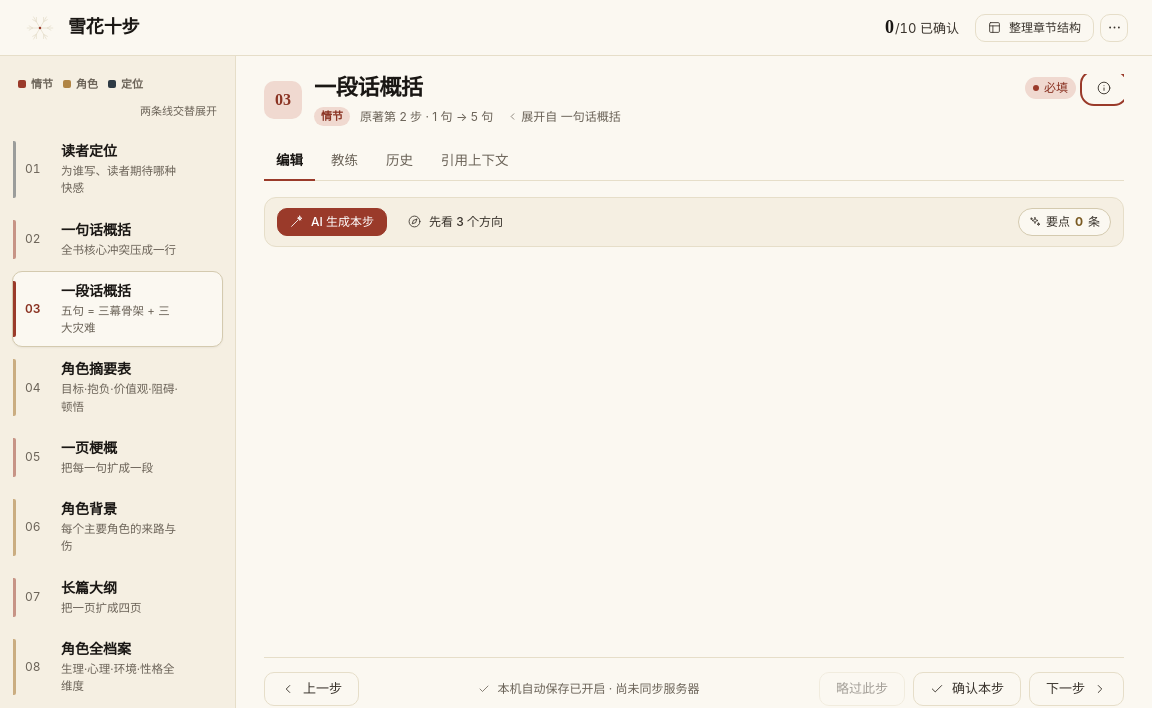
Test case: 真实新项目的雪花顶部主操作 › 窄屏的「本步上下文」抽屉：焦点移进抽屉；Esc / × 关上后焦点回到 ⓘ 按钮（不留在隐藏的抽屉里、不掉到 body）；抽屉开着时 ←/→ 不翻步
Click the button with class "sf-ctx-open".
click(1104, 88)  # box [1084,74,1124,102]
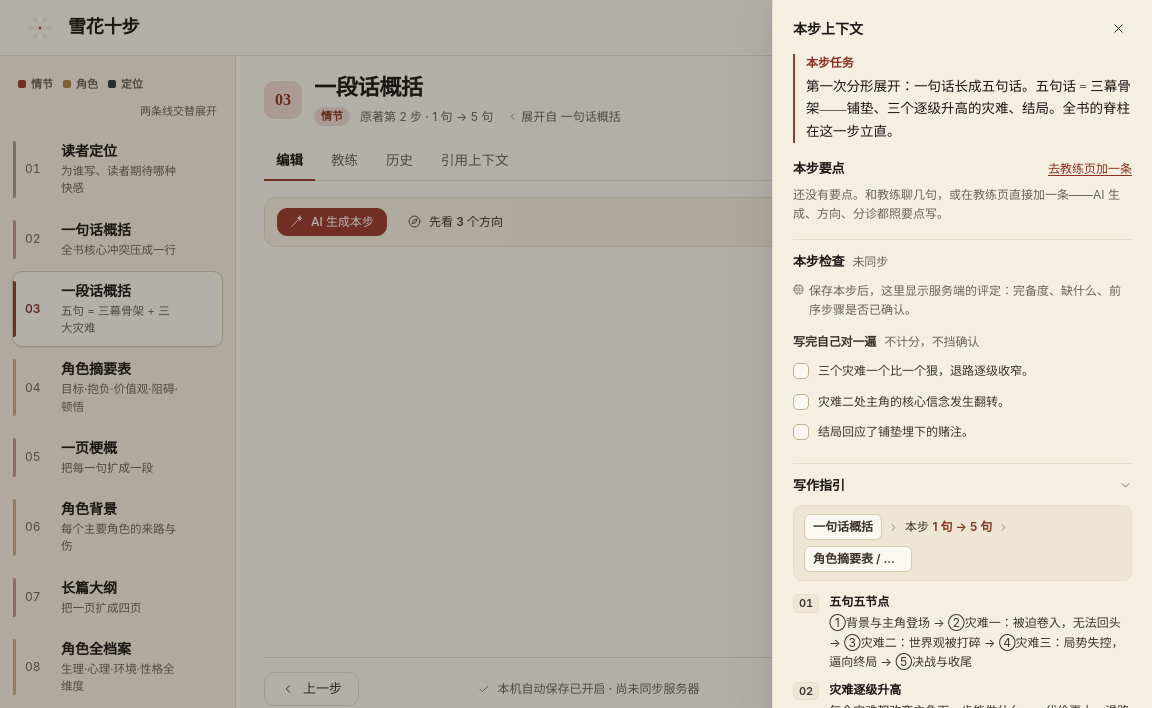
Check: the button with class "sf-ctx-open" is expanded, box [1084,74,1124,102]
Press ArrowRight
Check: the text "一段话概括" is shown, box [61,284,131,299]
Press Escape
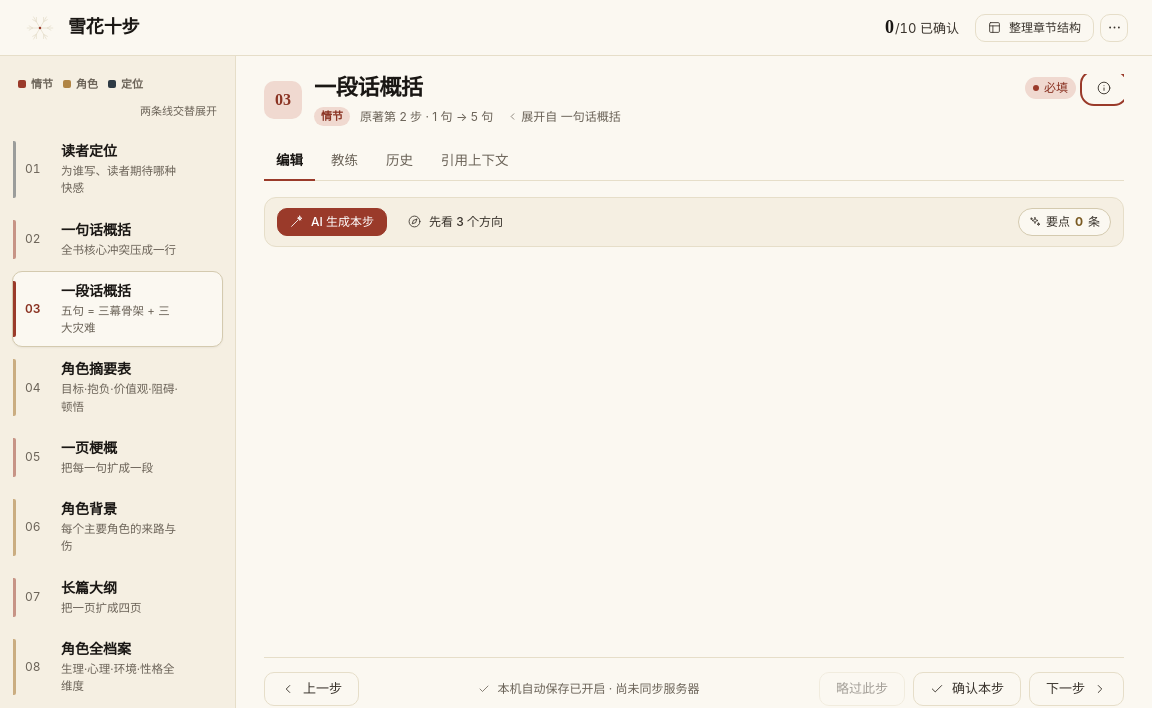
Check: the button with class "sf-ctx-open" is collapsed
Click the button with class "sf-ctx-open".
click(1104, 88)  # box [1084,74,1124,102]
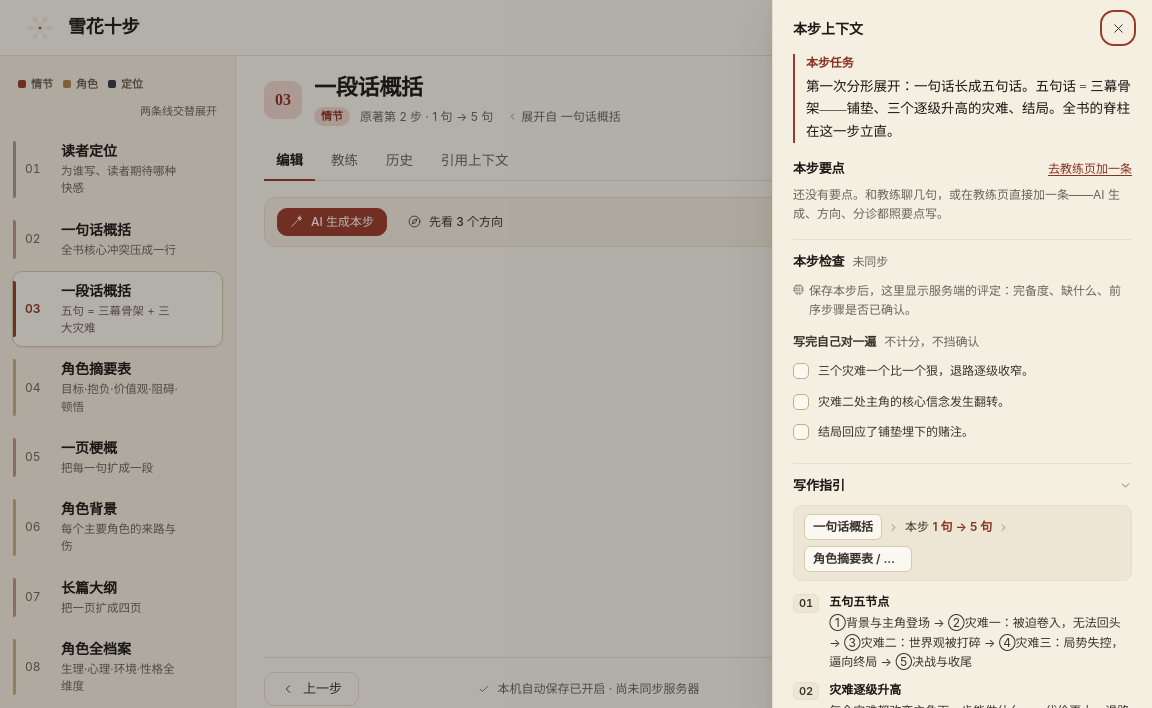
Press Escape in the button named "关闭本步上下文", box [1104,14,1132,42]
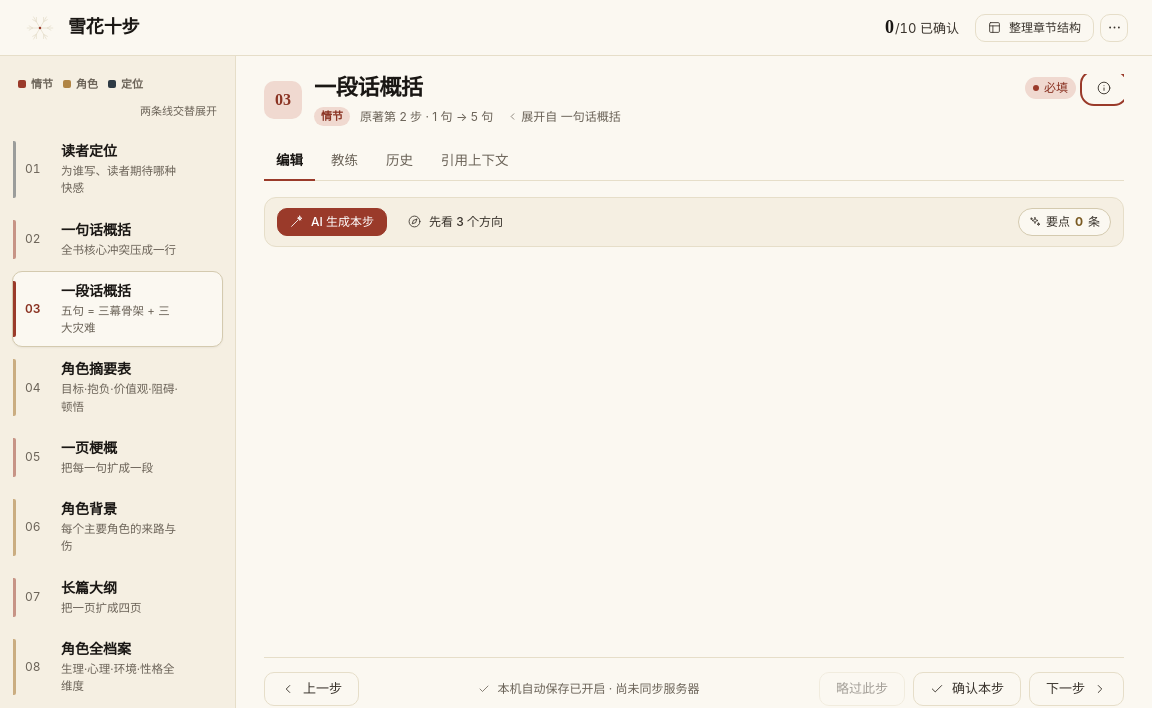
Check: the button with class "sf-ctx-open" is collapsed
Click the button with class "sf-ctx-open".
click(1104, 88)  # box [1084,74,1124,102]
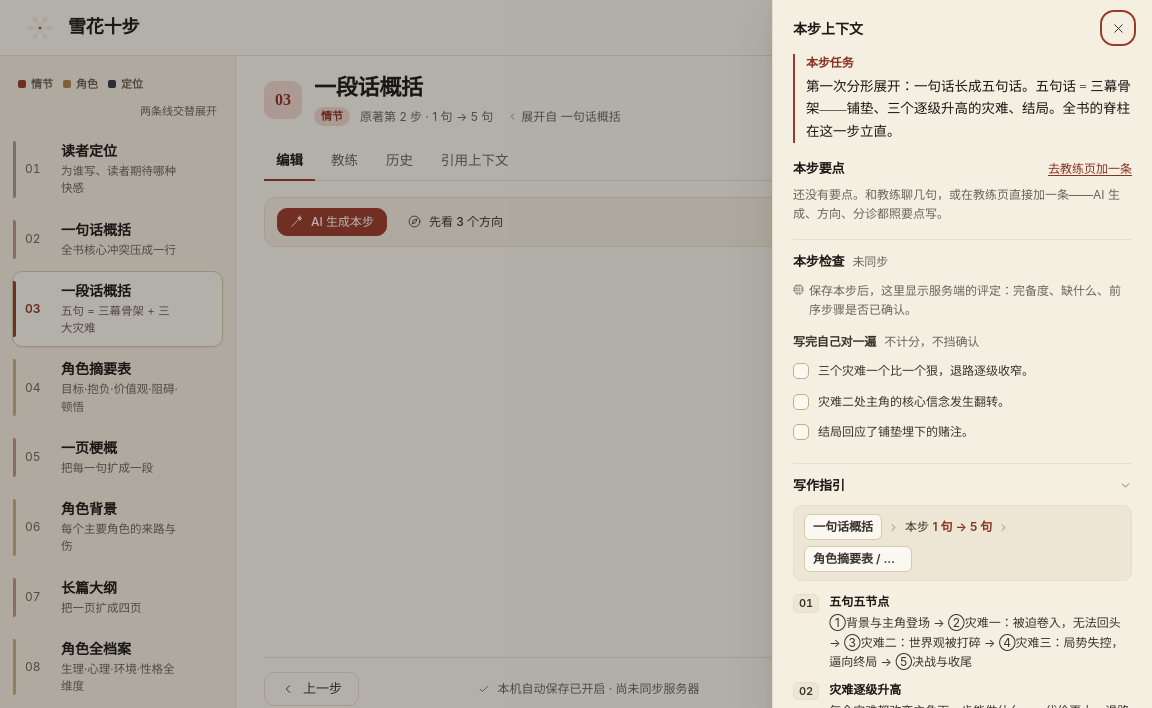
Click the button with class "wr-drawer-x".
click(1118, 28)  # box [1104,14,1132,42]
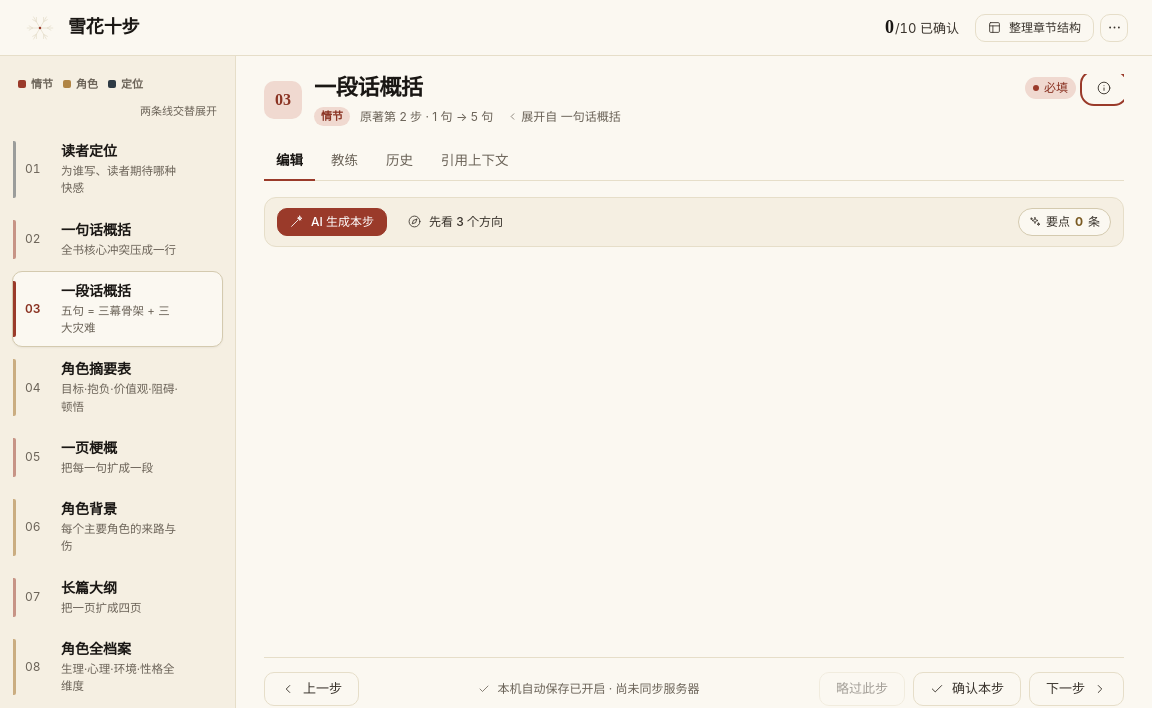
Check: the button with class "sf-ctx-open" is collapsed, box [1084,74,1124,102]
